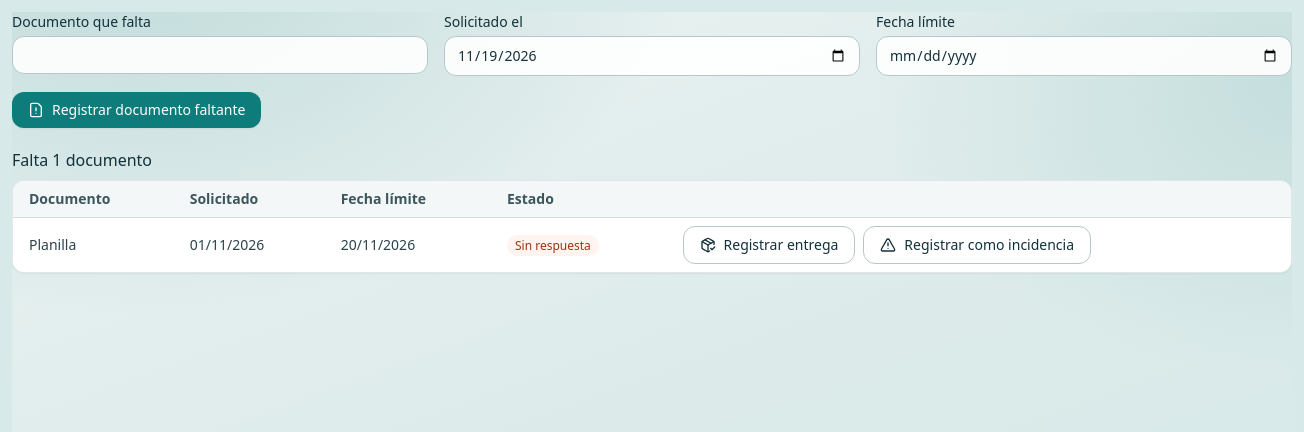
Test: Documentos faltantes en la ficha (HU-24) › criterio 4: un sin respuesta se registra como incidencia y después ya no se ofrece
Click the button "Registrar como incidencia". click: point(977, 245)
box: [863, 226, 1091, 264]
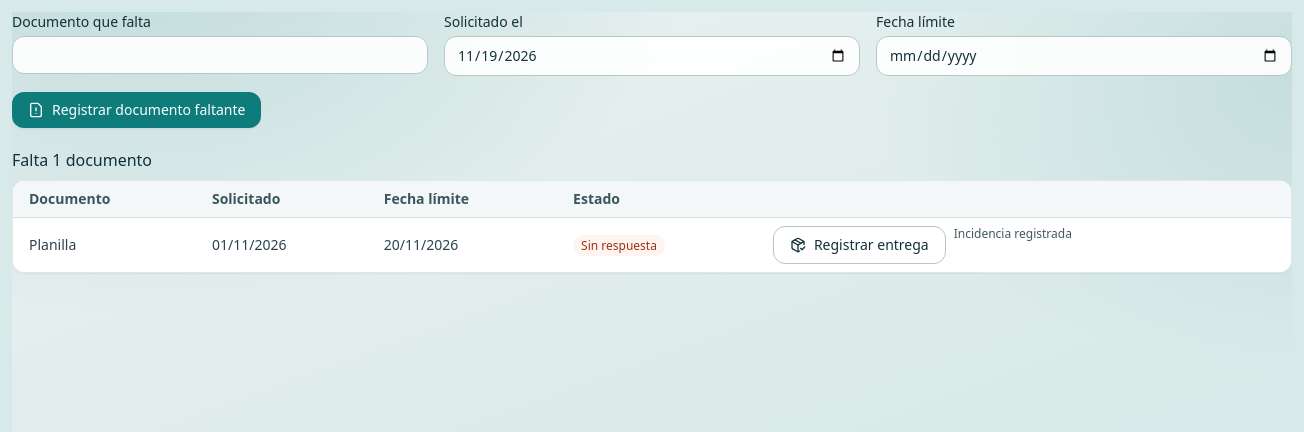
Check: the text "Incidencia registrada" is shown, box [954, 225, 1072, 242]
Check: the button "Registrar como incidencia" is gone
